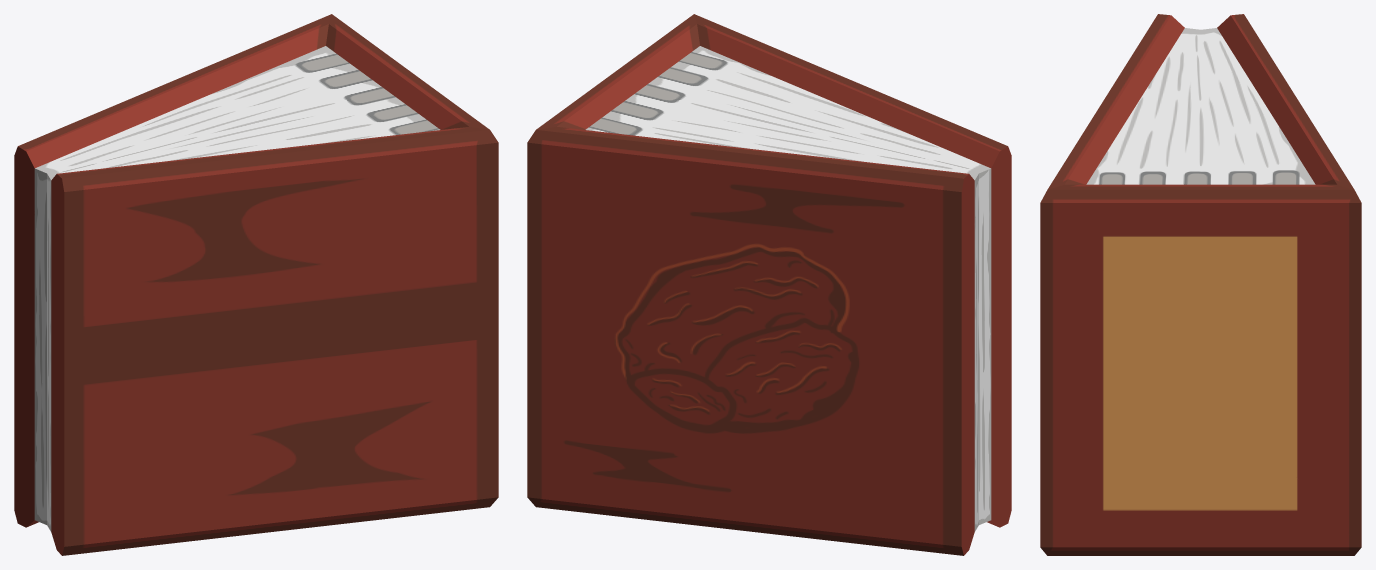
File: Binder.fbx
3 views of the same model, side by side, from view 1: azimuth 30°, elevation 25°; view 2: azimuth 150°, elevation 25°; view 3: azimuth 270°, elevation 25° (orthographic). The views are drawn at different scales.
Visible parts, largest first — view 1: Binder; view 2: Binder; view 3: Binder.
Part boxes in pixels (x1,y1,x2,y2): Binder: (14,14,498,555); Binder: (527,14,1011,555); Binder: (1040,14,1361,555).
Bounding box in the file's own units: 27.48 × 26.31 × 20.93.
Materials: 1 (1 with a texture image).
